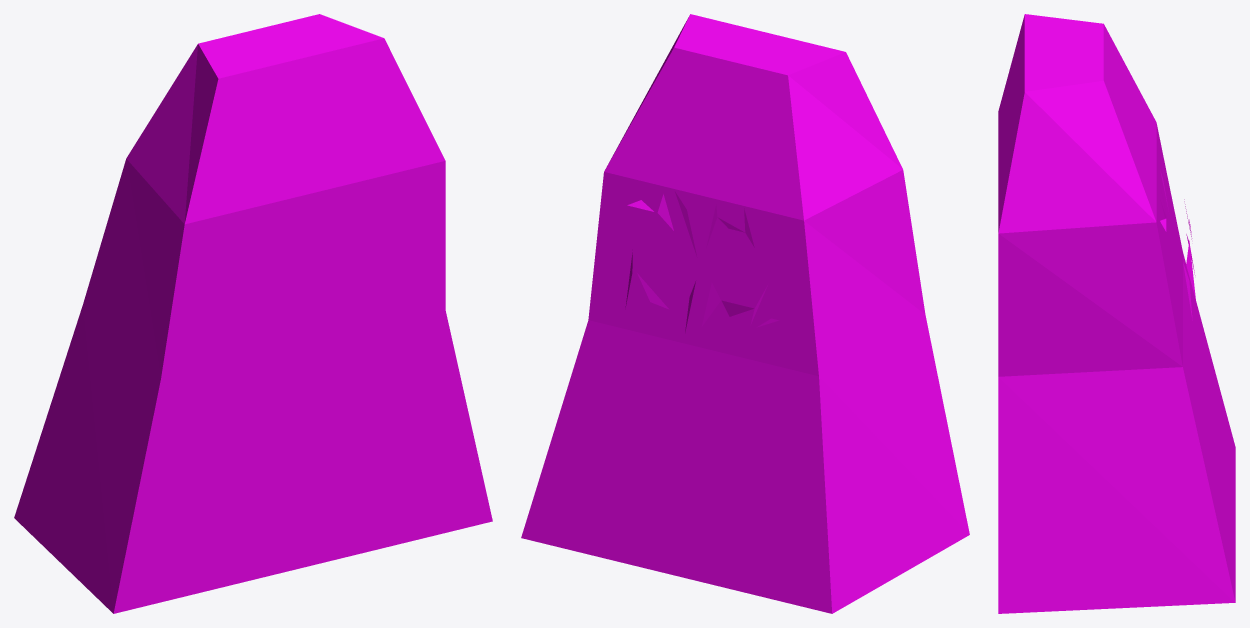
Rendered from cave carvings.obj.
The picture shows the model from 3 angles, left to right: view 1: azimuth 30°, elevation 25°; view 2: azimuth 150°, elevation 25°; view 3: azimuth 270°, elevation 25°; orthographic projection. The views are drawn at different scales.
Visible parts, largest first — view 1: cave carvings_back; view 2: cave carvings_back; view 3: cave carvings_back.
Part boxes in pixels (x1,y1,x2,y2): cave carvings_back: [14, 14, 492, 613]; cave carvings_back: [521, 14, 969, 613]; cave carvings_back: [998, 14, 1235, 613].
Size of the model in its own units: 1.28 by 1.6 by 0.72.
